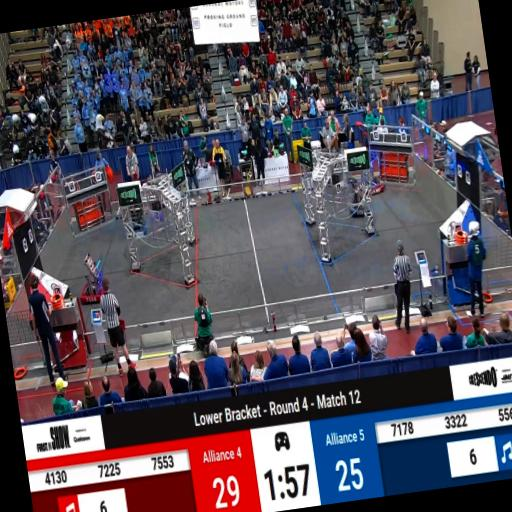robot: (77, 250, 113, 302), (348, 187, 374, 219), (122, 214, 148, 240), (366, 173, 386, 195)
